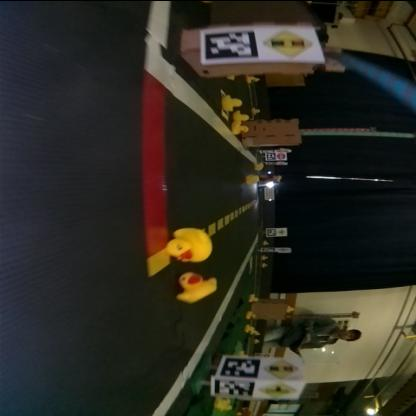Duckie: (166, 226, 212, 258), (180, 270, 220, 301), (223, 96, 244, 108), (234, 122, 249, 132), (234, 112, 250, 121), (247, 172, 259, 182), (257, 161, 264, 167), (248, 310, 256, 315), (247, 324, 254, 329), (252, 294, 258, 299), (250, 74, 256, 79)
QR code: (206, 29, 258, 58), (217, 378, 254, 396), (220, 358, 260, 374), (266, 228, 276, 234)
Signal sign: (270, 28, 316, 57), (264, 358, 298, 376)
